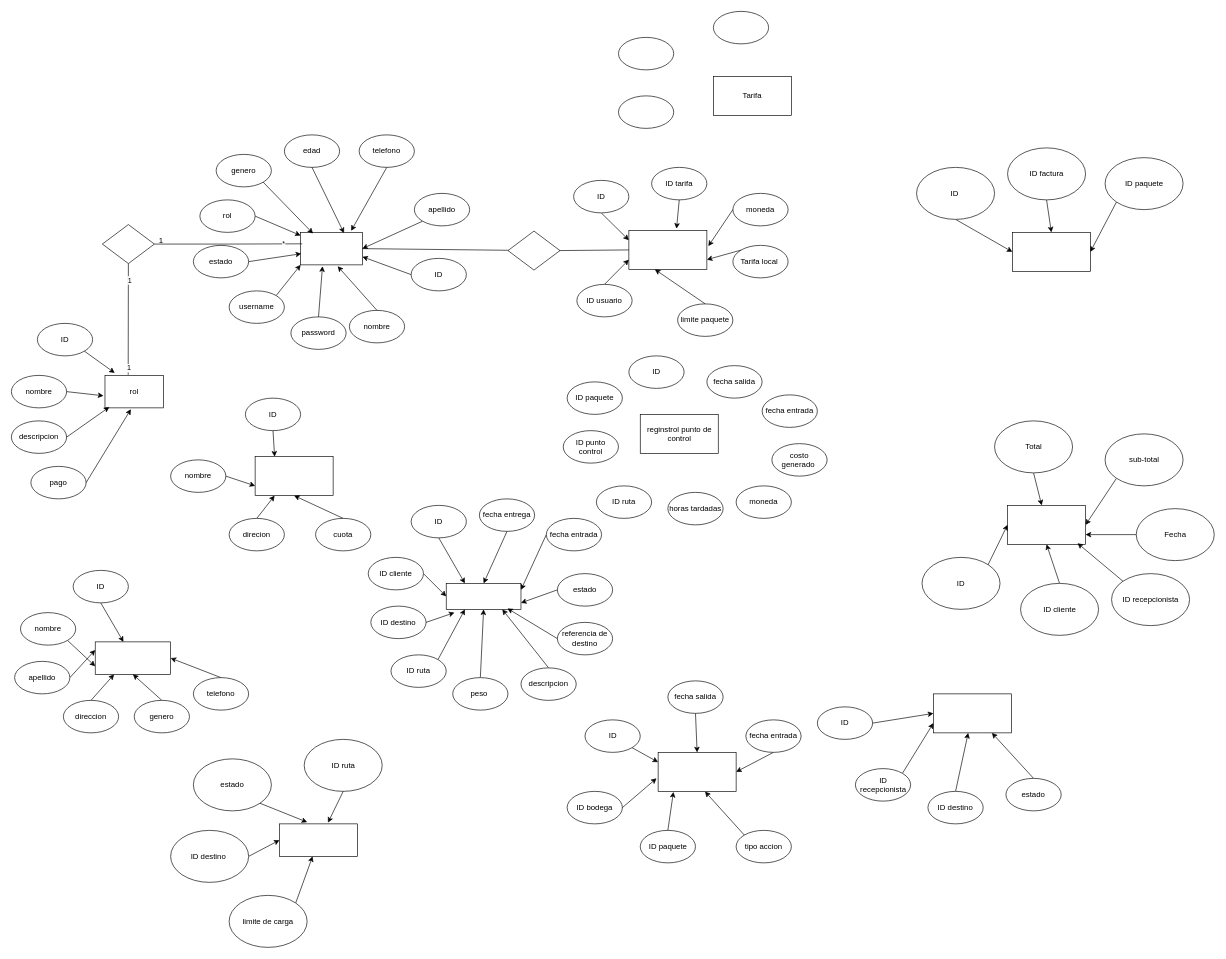
Image size: 1226x959. Some labels were removed from this diagram. The shapes that lost their labels are listed below. From the top down, each one's centre as x and y in pixels, then its label:
[128,244]: tener
[331,248]: usuario
[667,249]: punto de control
[1051,251]: detalle de factura
[293,476]: destino
[1046,524]: factura
[483,596]: paquete
[133,657]: cliente
[972,713]: bodega
[696,771]: registro bodega
[318,839]: ruta
